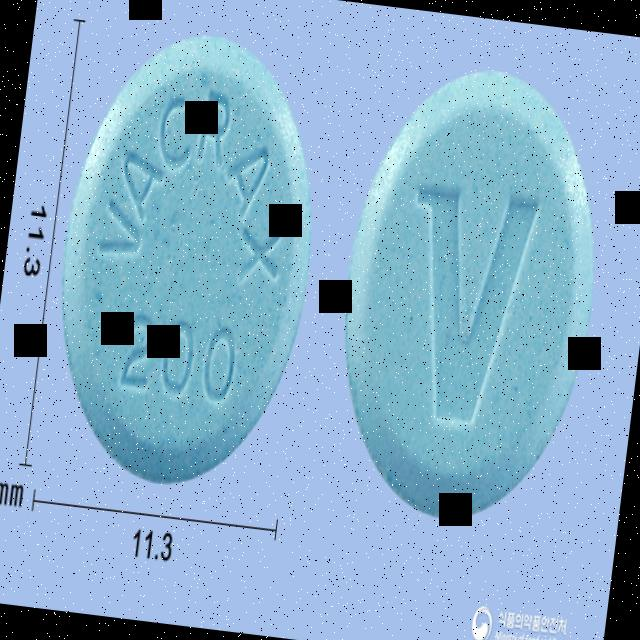Vacrax Tab: (36, 19, 338, 497), (318, 54, 620, 531)
